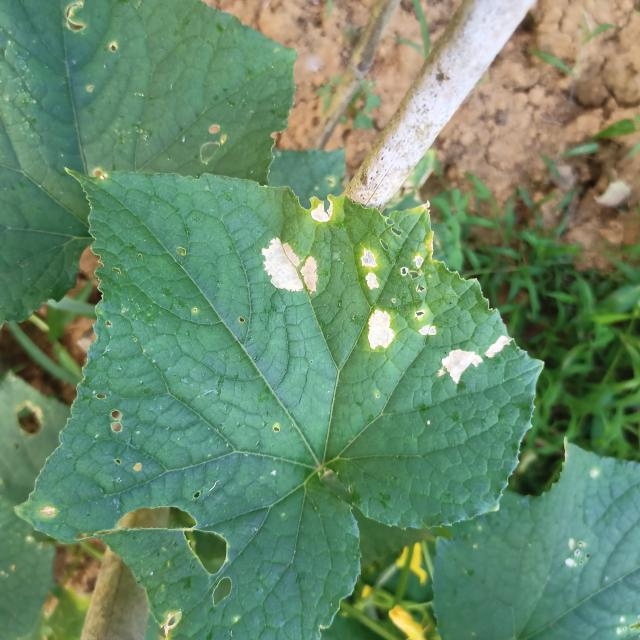disease_cucumber: (347, 226, 443, 356), (436, 332, 514, 390), (256, 234, 323, 296), (307, 196, 339, 226)
